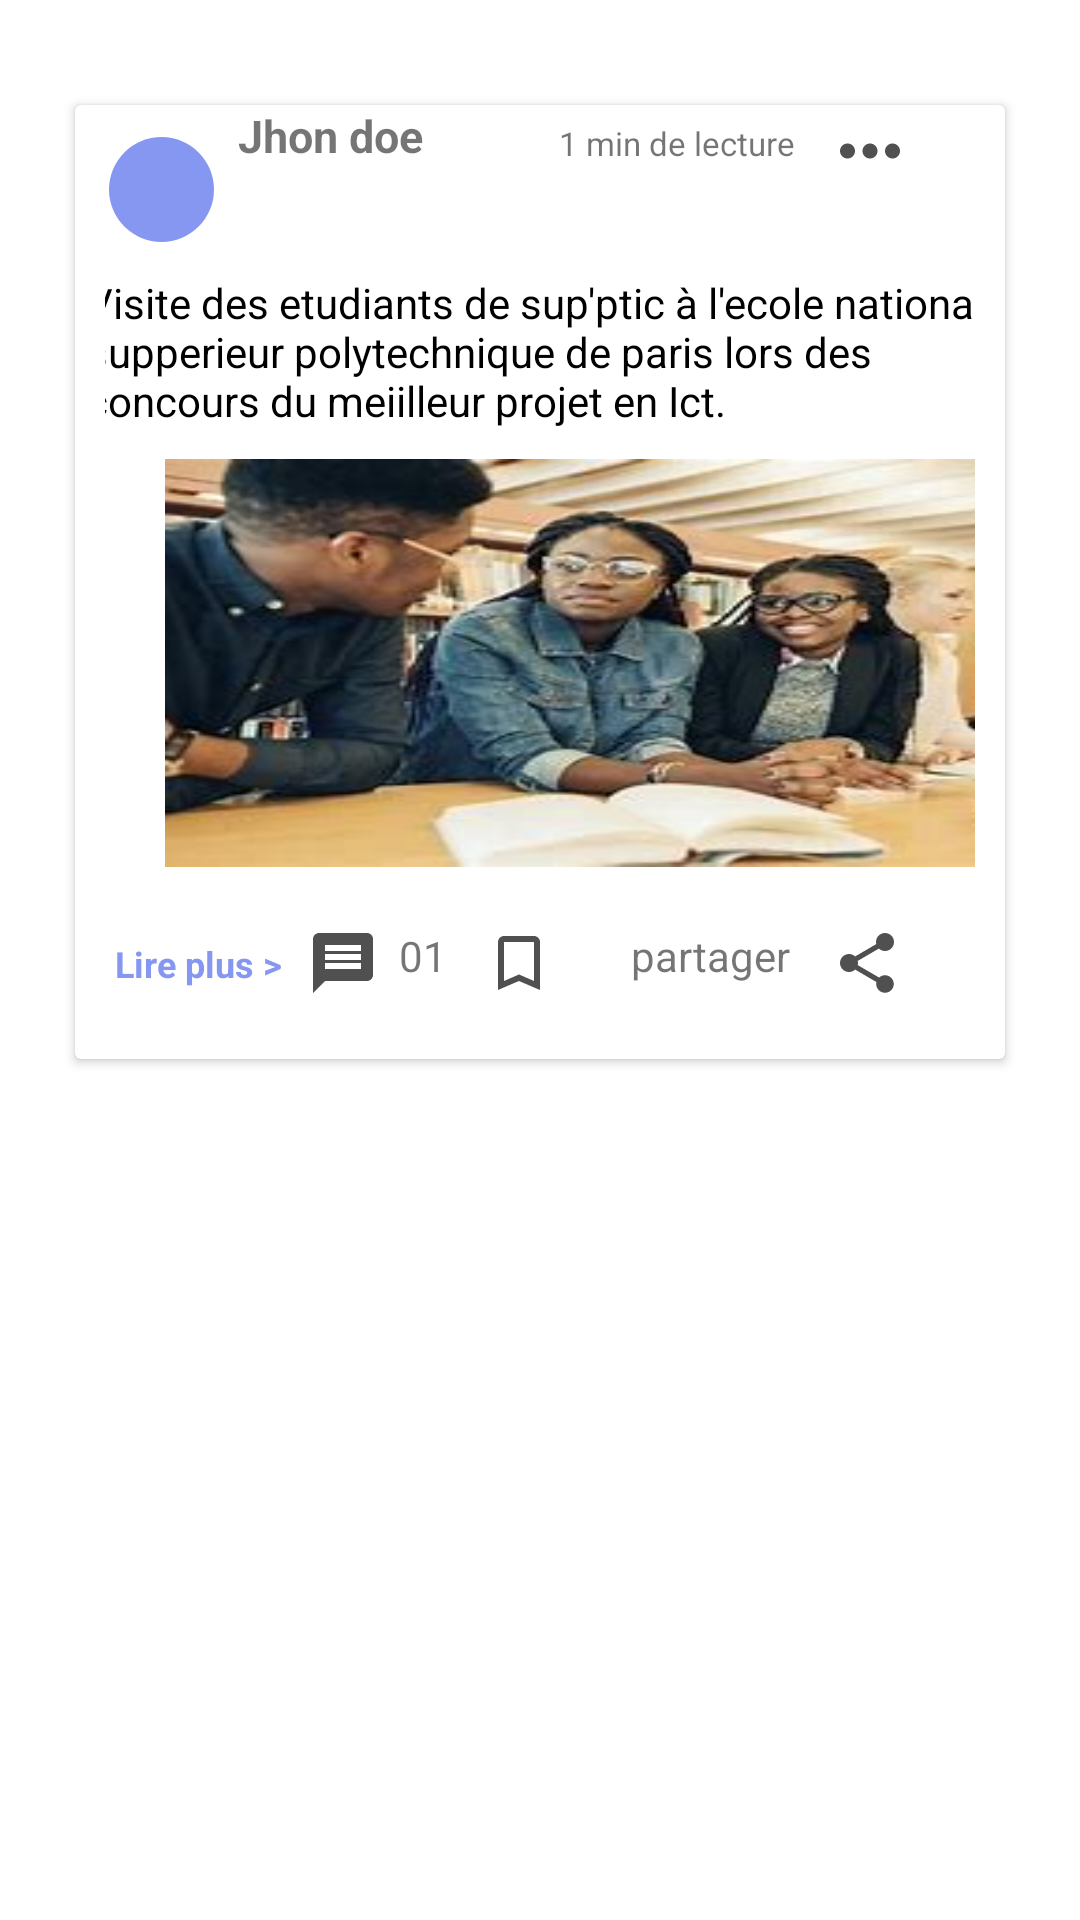

Where to tap for icons on this 1080*1920 app screen, as (x=x, y=y):
morehoriz: (x=870, y=151)
